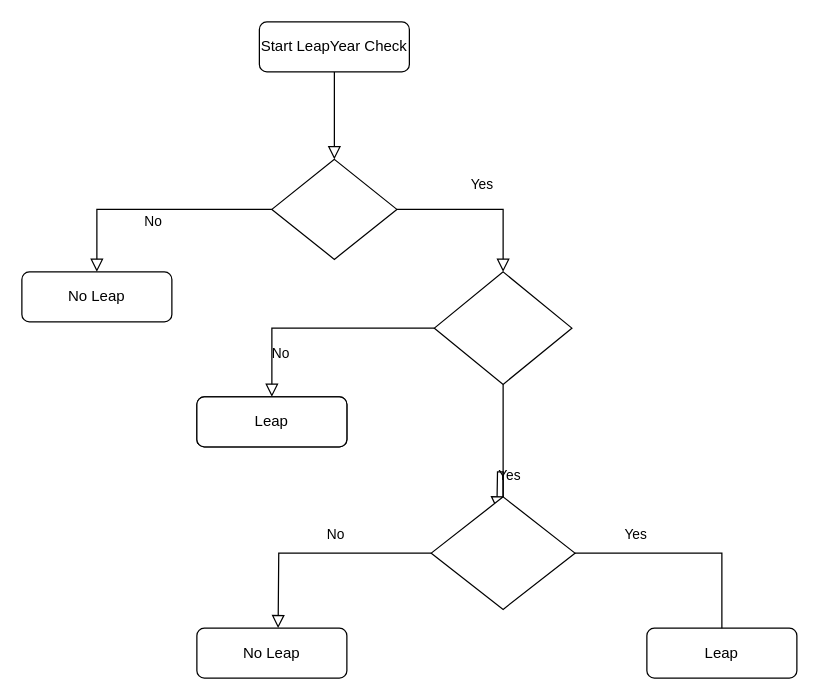
Image size: 819x700. Some labels were removed from this diagram. Here are the shapes that lost their labels. From the top down, the centre of each, then its label:
At [334,208]: "Is it cleanly divisible by 4?".
At [502,327]: "Is it cleanly divisible by 100?".
At [502,552]: "Is it cleanly divisible by 400?".
